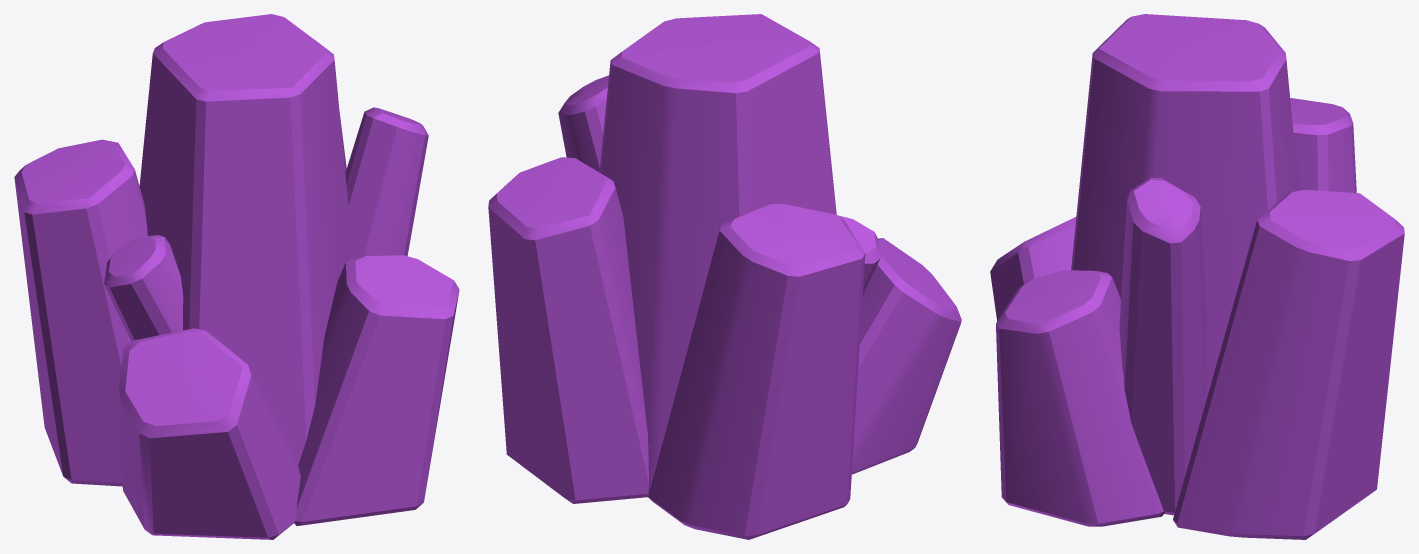
Rendered from gorge-crystal-purple.glb.
3 views of the same model, side by side, from view 1: azimuth 30°, elevation 25°; view 2: azimuth 150°, elevation 25°; view 3: azimuth 270°, elevation 25° (orthographic). The views are drawn at different scales.
Visible parts, largest first — view 1: GorgeCrystalPurple; view 2: GorgeCrystalPurple; view 3: GorgeCrystalPurple.
Boxes of the visible parts, x1,y1,x2,y2 form: GorgeCrystalPurple: (14, 14, 459, 539); GorgeCrystalPurple: (488, 14, 961, 539); GorgeCrystalPurple: (990, 14, 1404, 539).
Size of the model in its own units: 1.2 by 1.34 by 1.2.
1 material, 1 textured.
